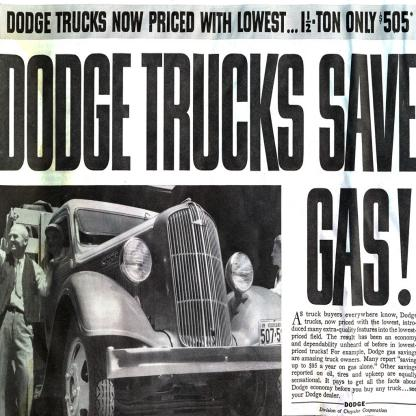Car: (24, 182, 258, 400)
